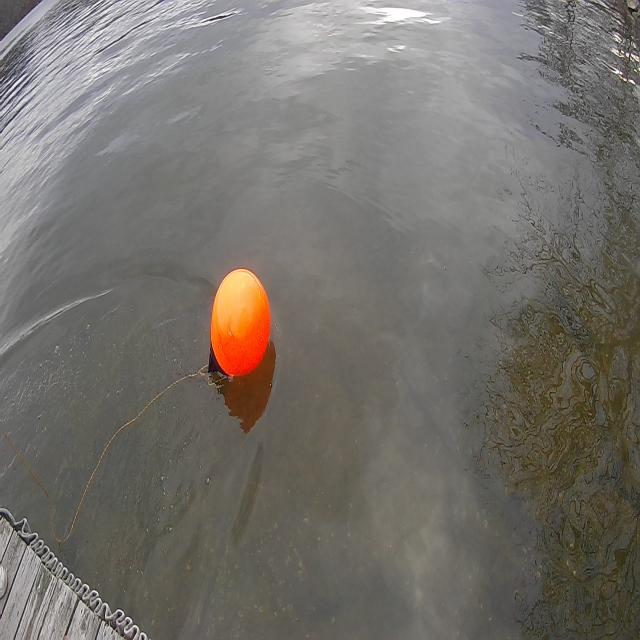Buoy: (207, 263, 273, 381)
